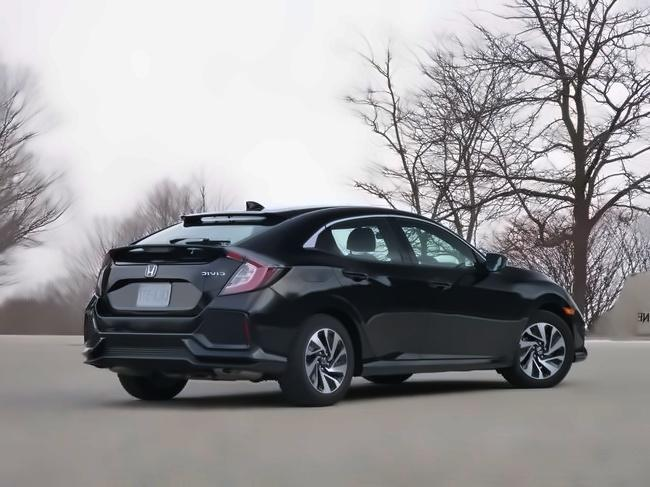Driver-s door - -F-R-: (415, 216, 496, 367)
Fender - -F-R-: (496, 263, 568, 364)
Fender - -R-R-: (258, 242, 361, 377)
Front bumper: (569, 307, 592, 364)
Passenger-s door - -R-R-: (326, 207, 427, 367)
Rear bumper: (79, 297, 297, 383)
Rear light - -L-: (89, 252, 117, 301)
Rear light - -R-: (217, 244, 293, 299)
Side bumper - -R-: (349, 354, 525, 380)
Side mirror - -R-: (477, 249, 511, 276)
